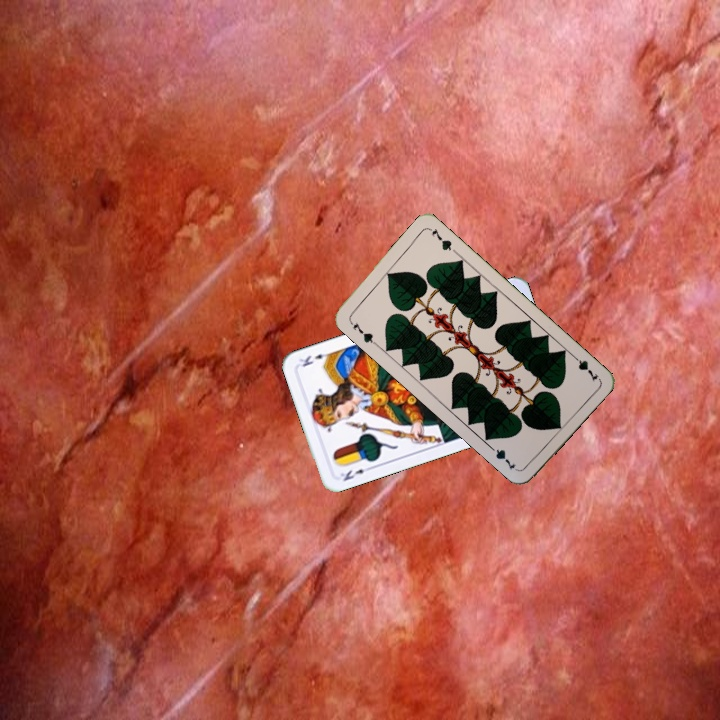EK: (336, 462, 374, 484)
G7: (568, 350, 601, 384), (345, 316, 379, 347)
